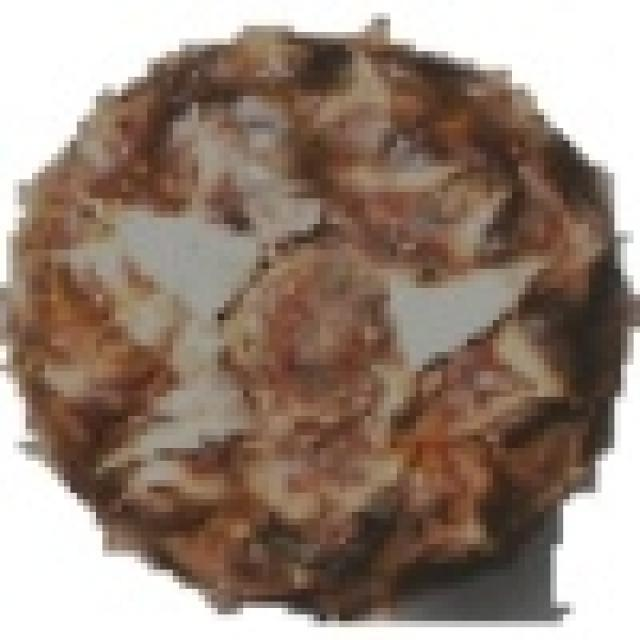pineapple: (6, 13, 608, 602)
